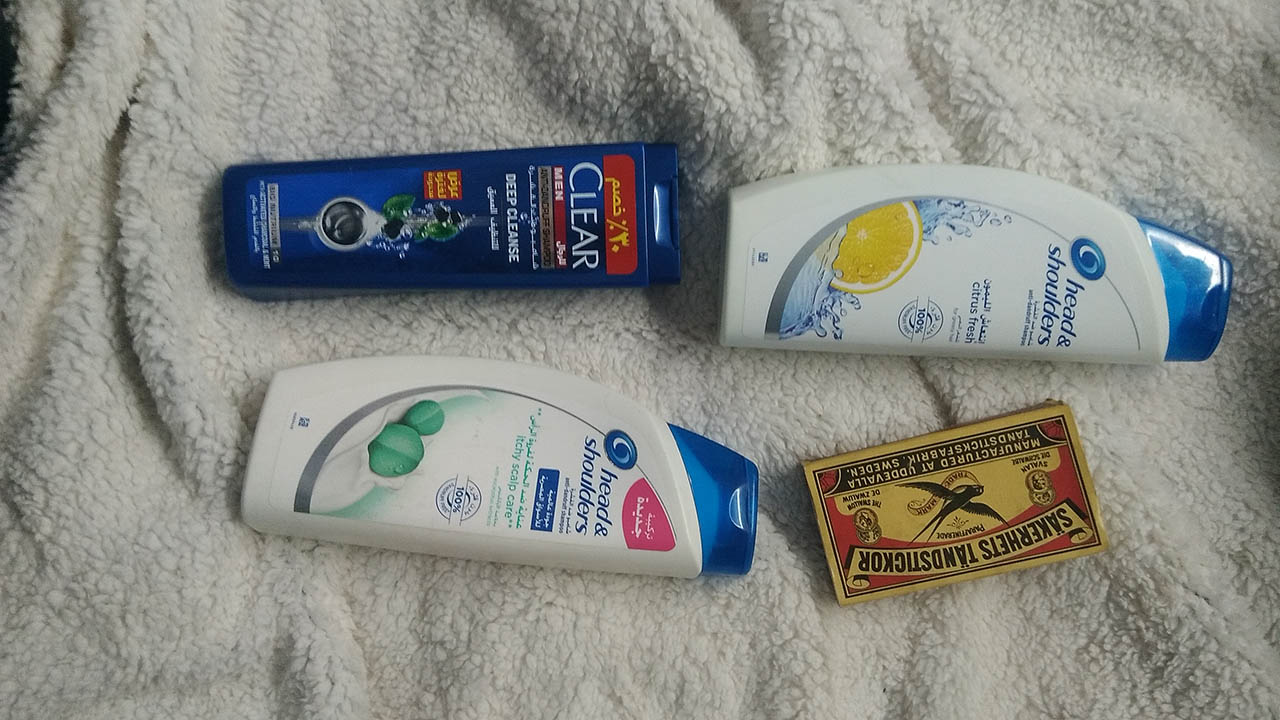Shampoo-Clear 4.7$: (179, 122, 698, 312)
match-sticks .90$: (800, 383, 1140, 639)
shampoo-Lemon 3.5$: (720, 139, 1243, 387)
shampoo-green 4.5$: (240, 329, 779, 588)
